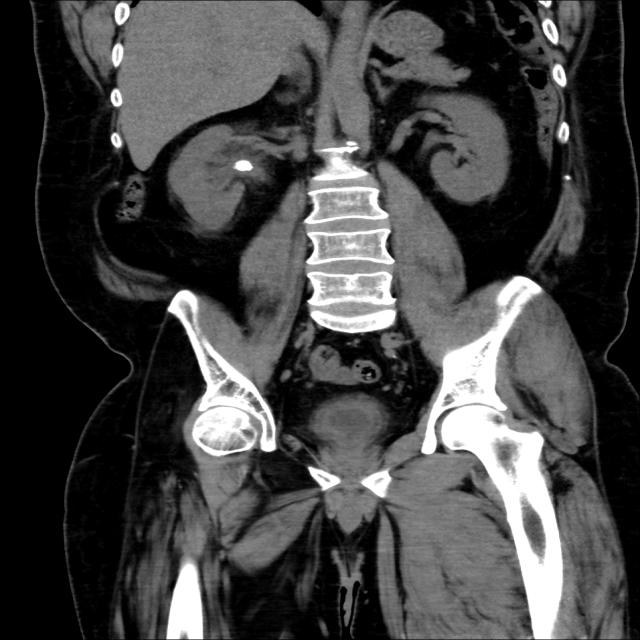kidneystone: (235, 160, 252, 171)
